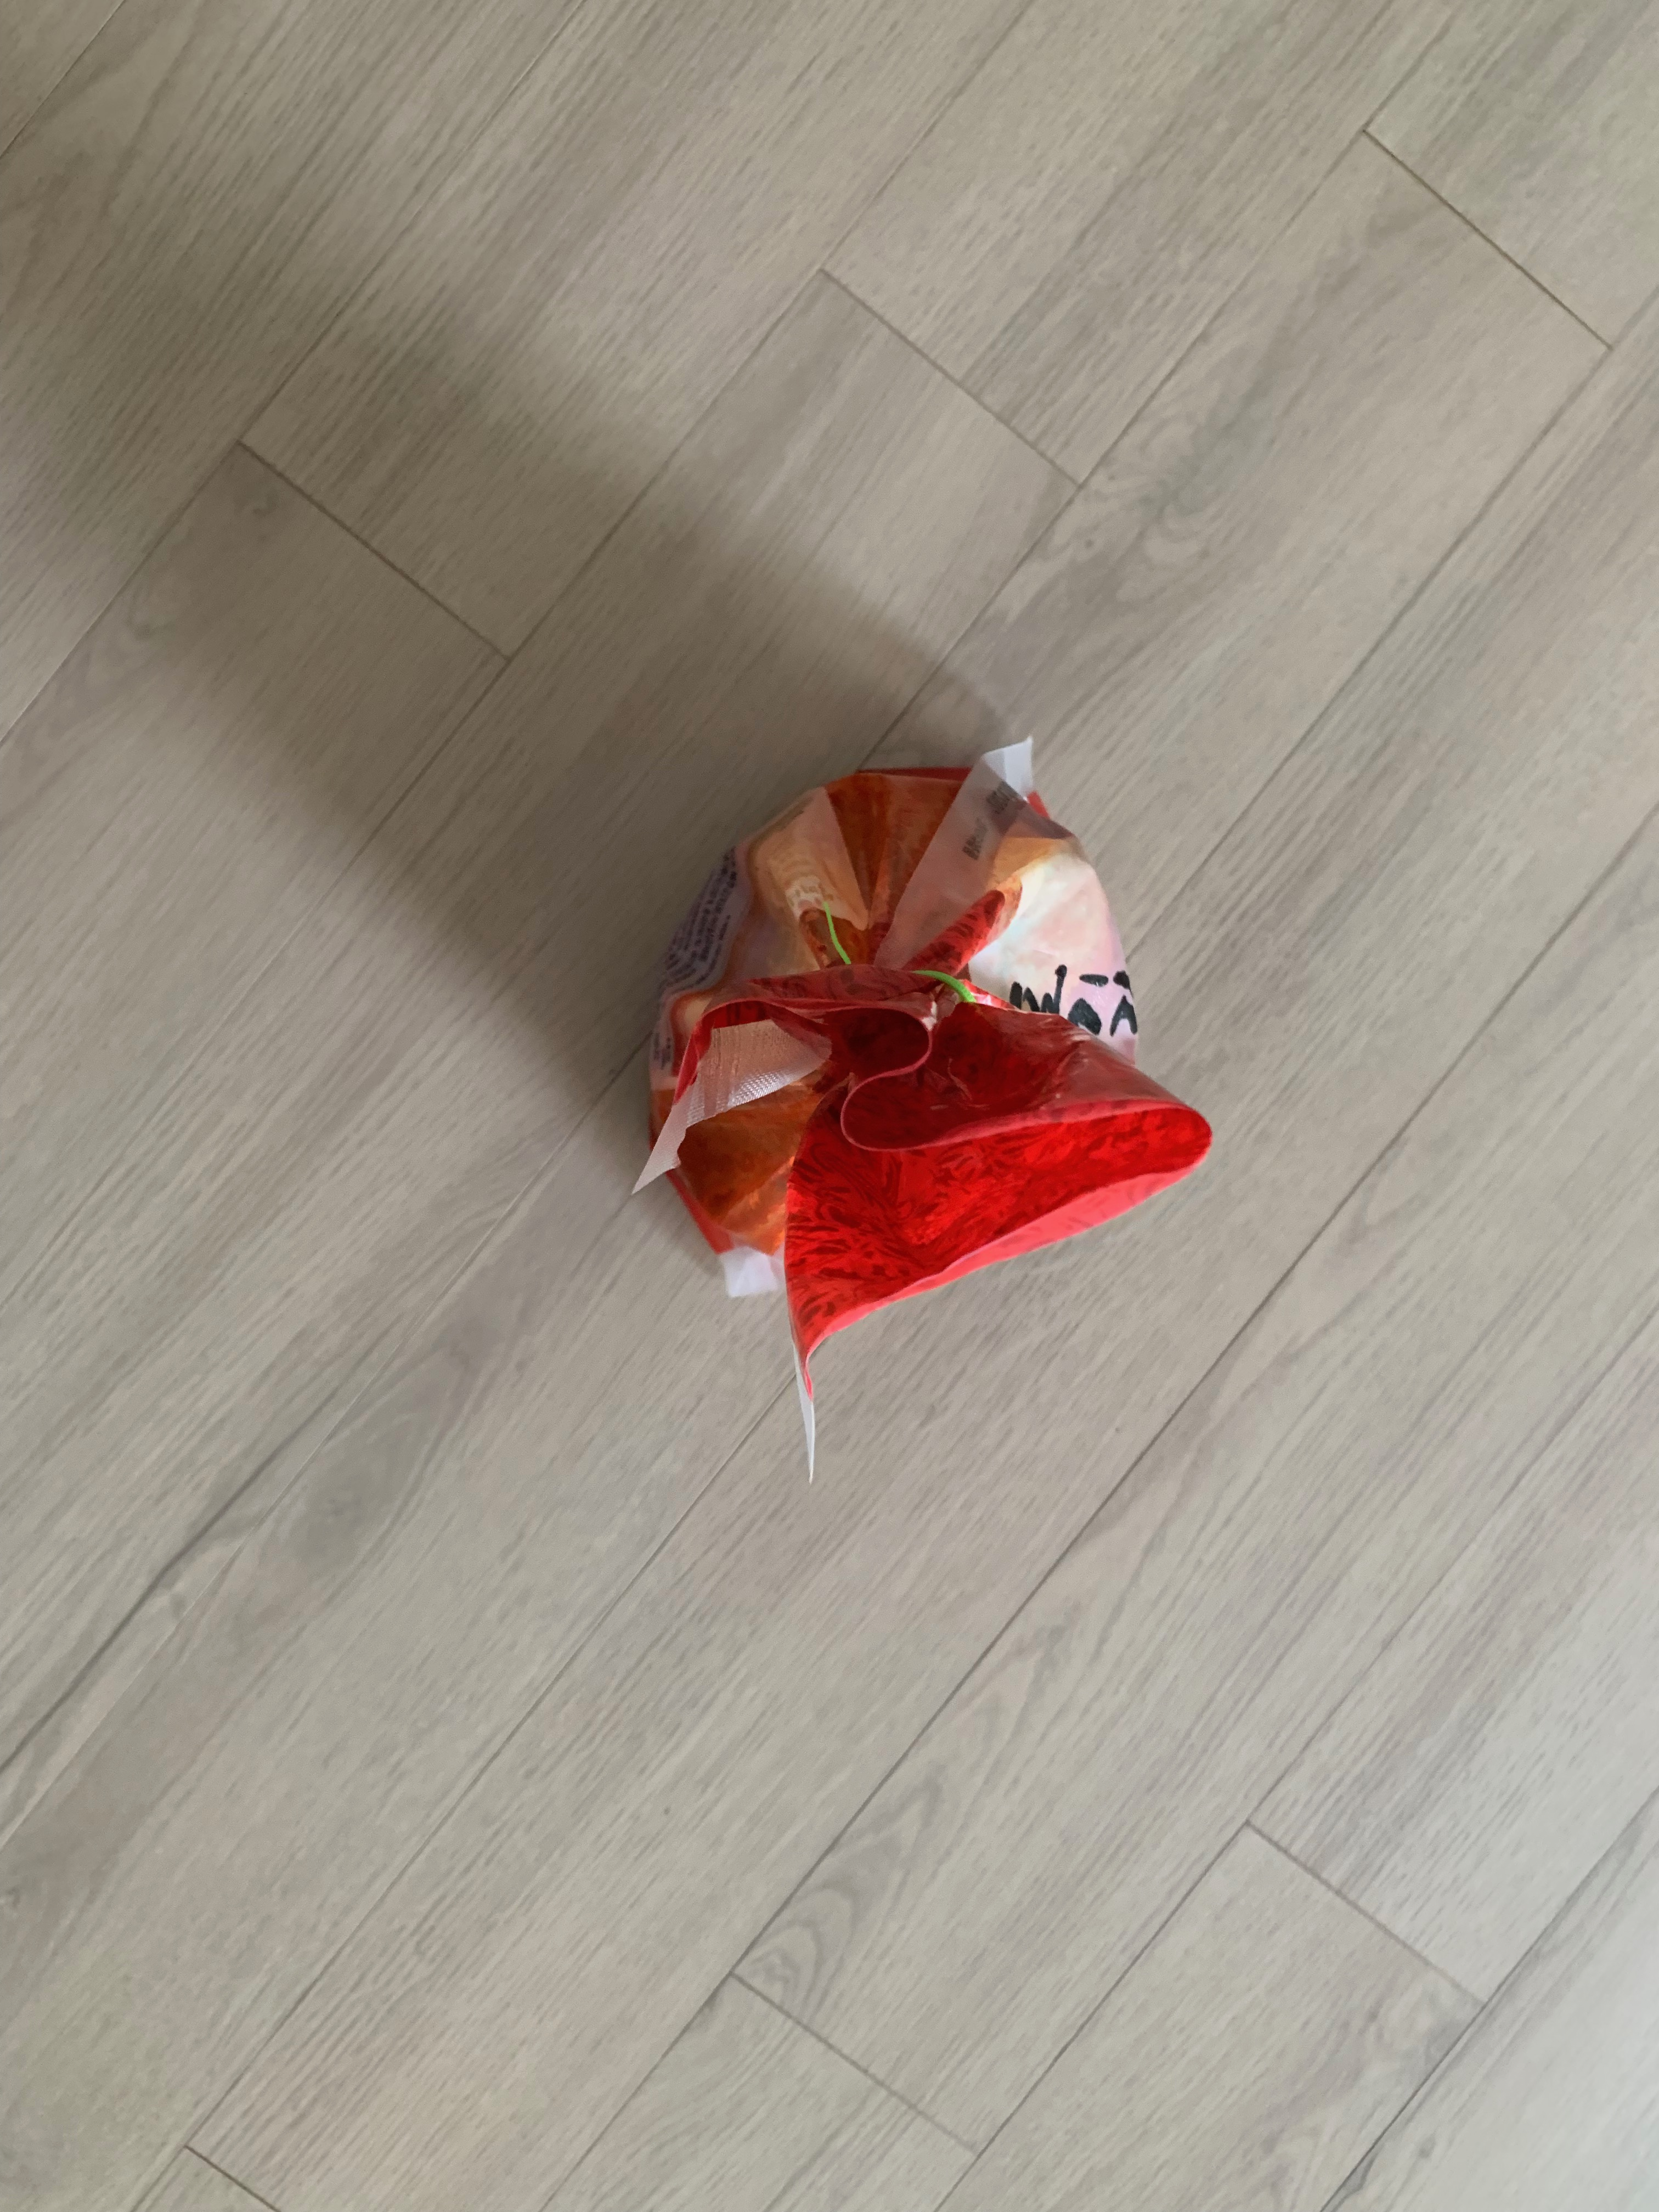kimchi: (652, 761, 1213, 1359)
